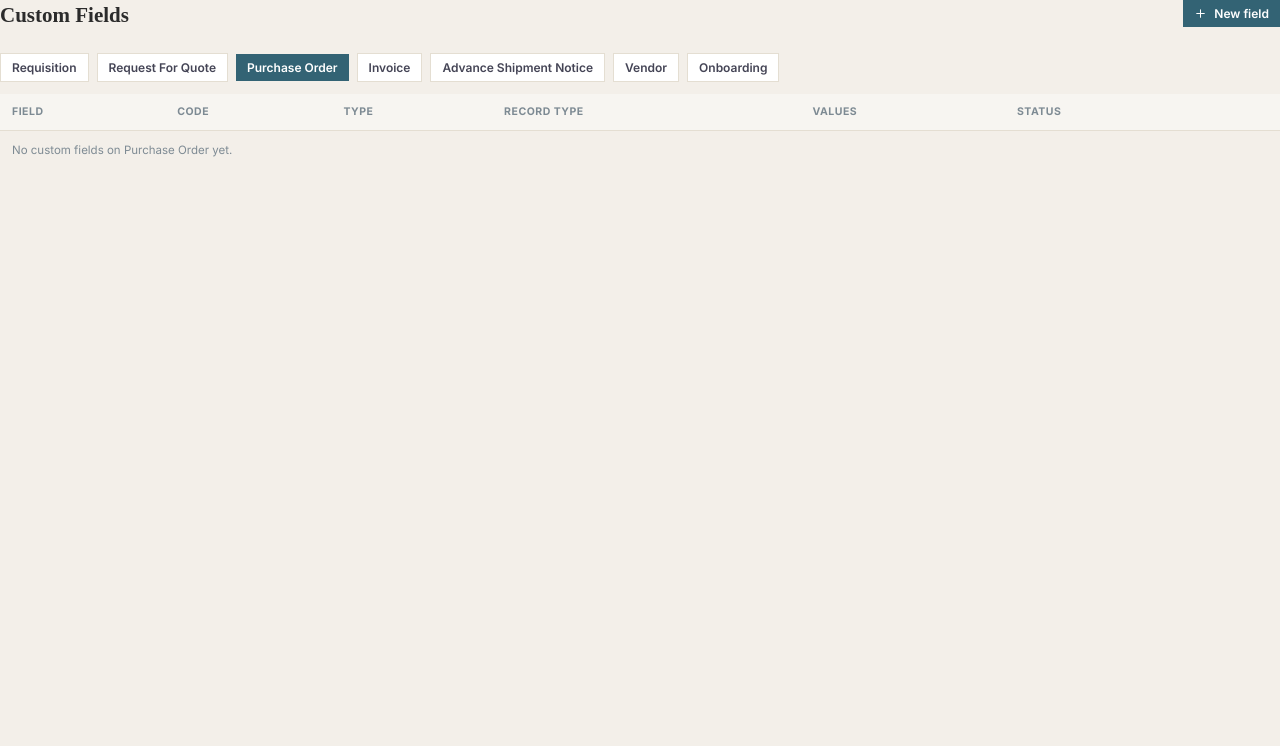
Test case: AdminCustomFields — CF-FIX4-T4 placement cascade › a LINE-scope field skips placement (L4 — sublist columns have no groups)
The image size is (1280, 746).
Click the button "New field": [1232, 14] box [1183,0,1279,27]
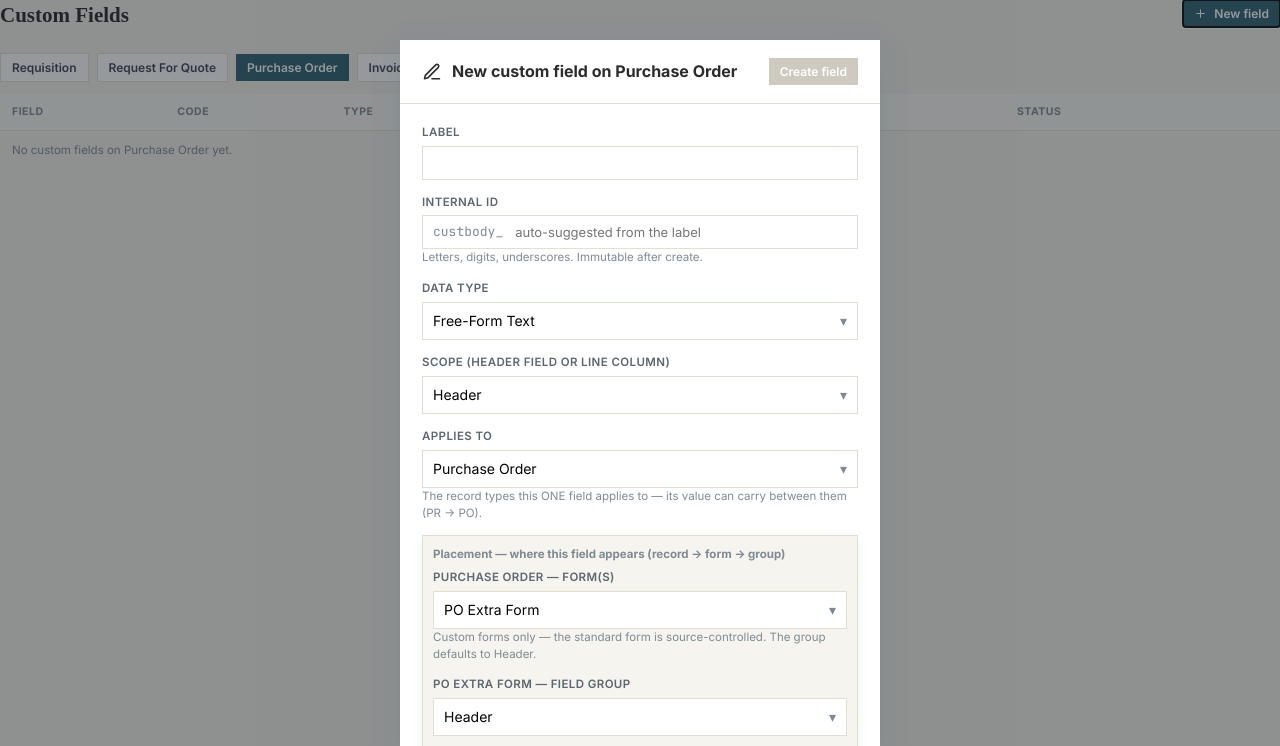
Expected: the text "Placement — where this field appears (record → form → group)" is shown, [433,546,847,563]
Click the button with aria-label "Scope (header field or line column)": [457, 394] box [422,376,858,414]
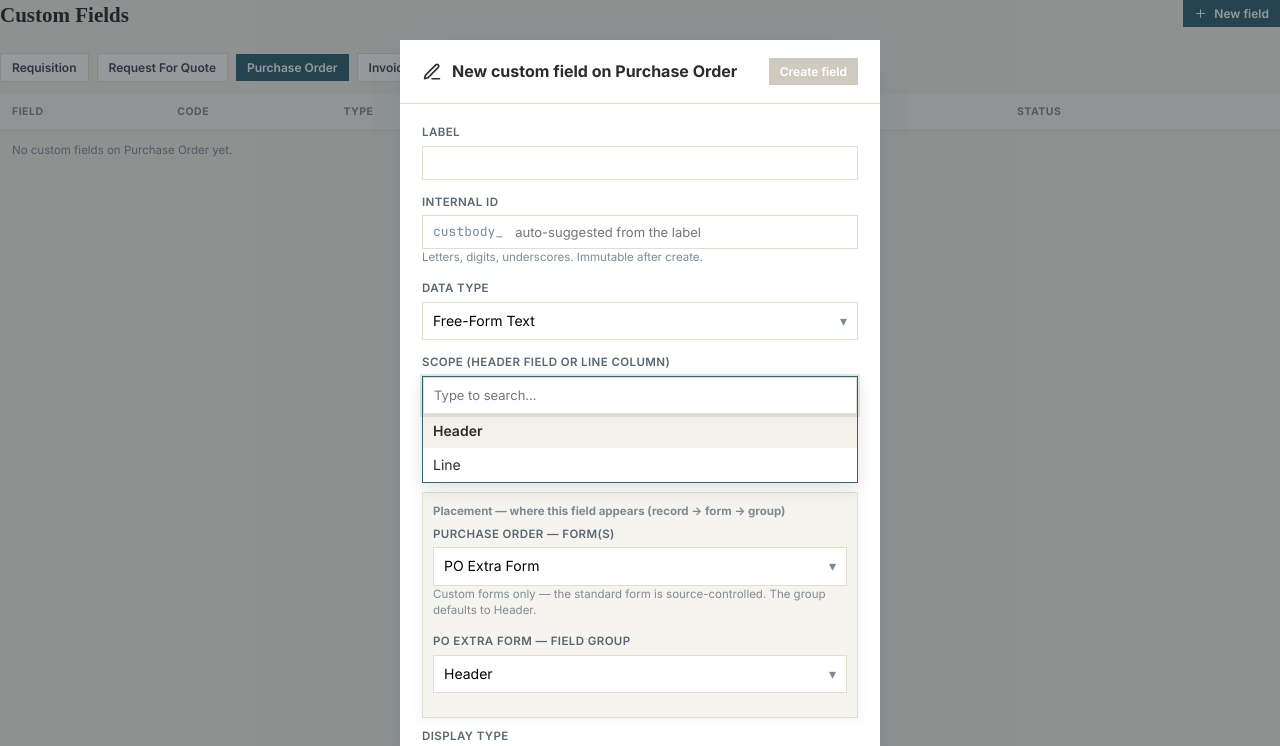
In the dropdown with placeholder "Type to search…": [640, 395] box [423,377,857,414], type "Line"
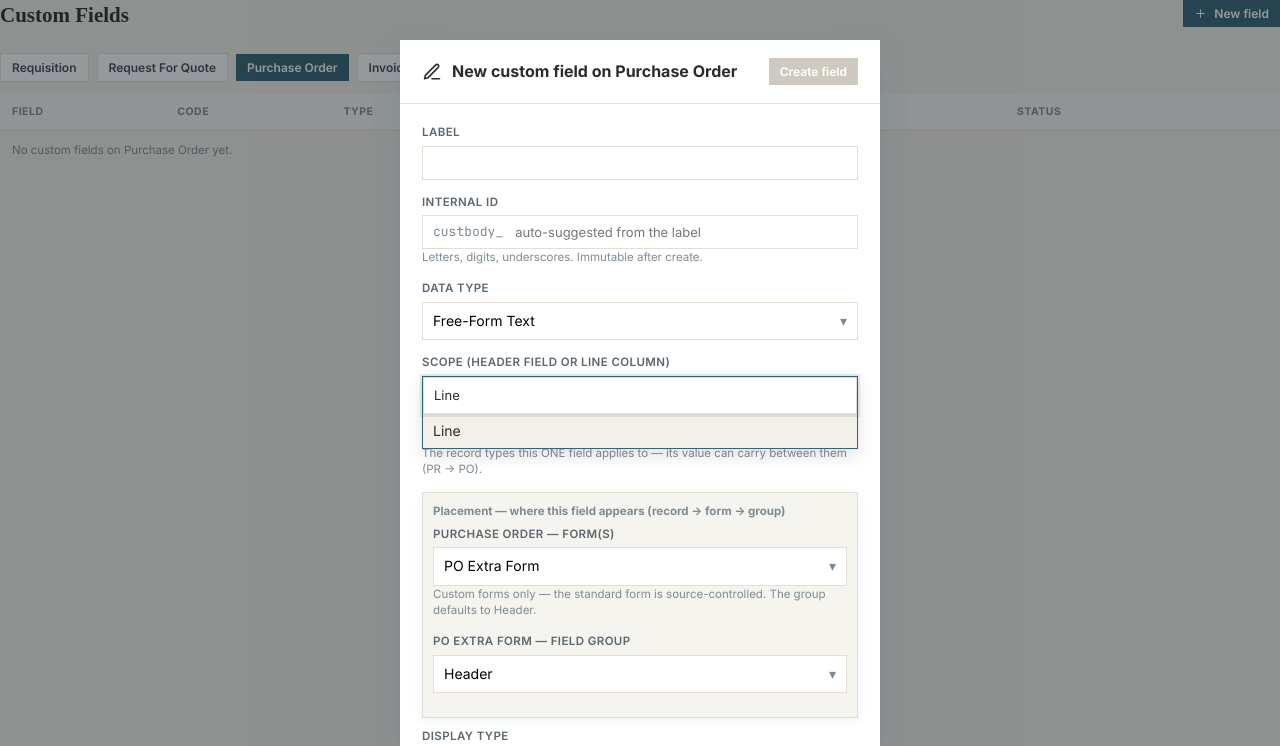
Press Enter
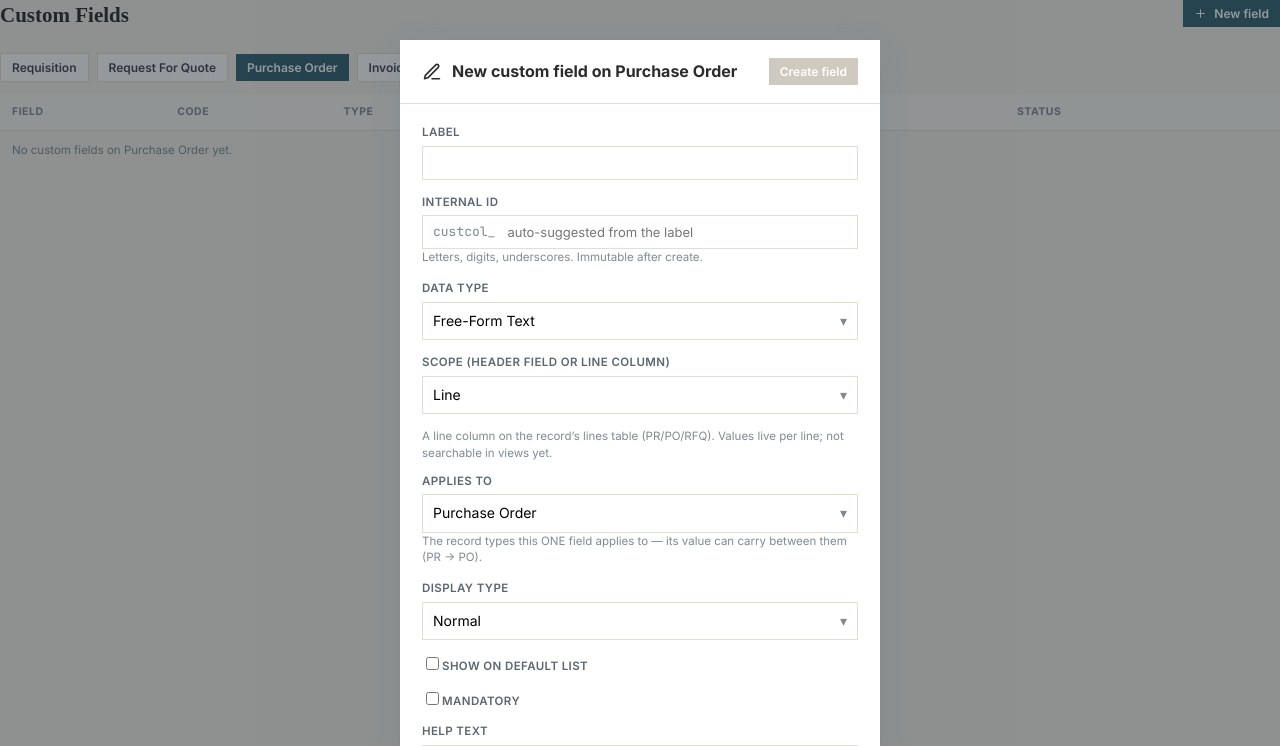
Expected: the text "Placement — where this field appears" is gone
